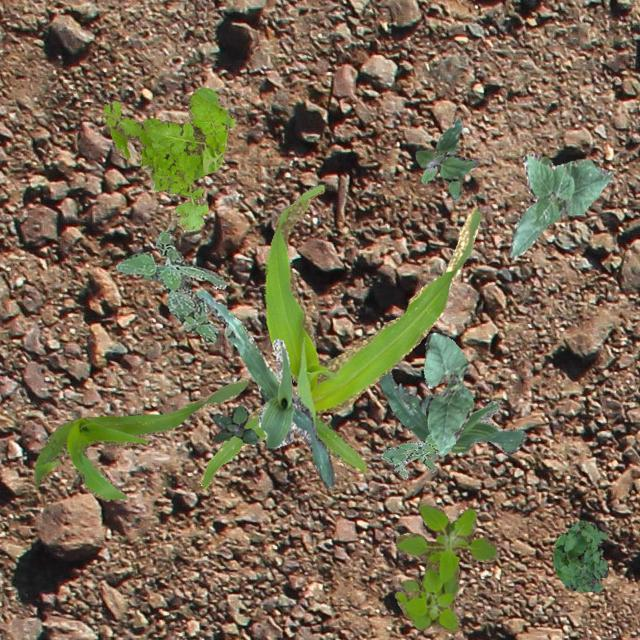crop: (200, 183, 480, 488), (194, 288, 334, 486), (34, 376, 248, 500), (378, 369, 526, 454), (508, 152, 612, 258), (423, 332, 472, 454)
weed: (103, 87, 233, 236), (394, 504, 496, 632), (115, 230, 226, 344), (414, 116, 478, 198), (552, 520, 608, 590), (380, 432, 438, 478), (212, 404, 258, 444)
